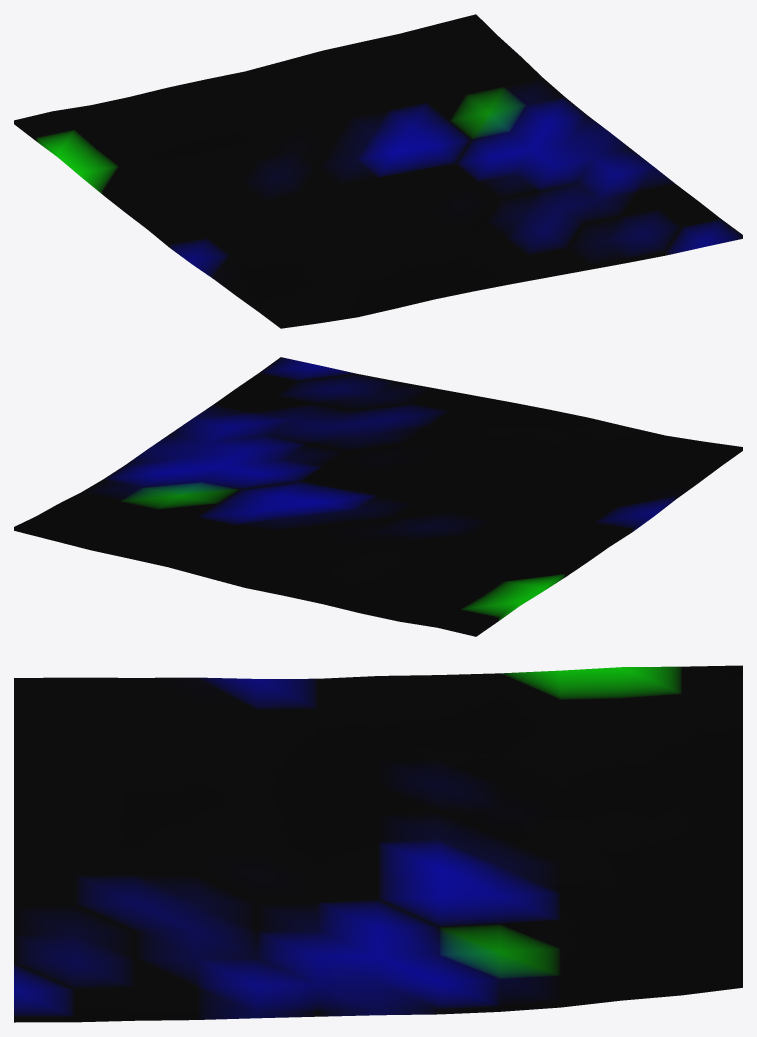
The model's file is coast_10_4.glb.
The picture shows the model from 3 angles, top to bottom: view 1: azimuth 30°, elevation 25°; view 2: azimuth 150°, elevation 25°; view 3: azimuth 270°, elevation 25°; orthographic projection. The views are drawn at different scales.
Parts seen in each view (by area): view 1: terrain; view 2: terrain; view 3: terrain.
Boxes of the visible parts, x1,y1,x2,y2 form: terrain: (14, 14, 742, 328); terrain: (14, 357, 742, 636); terrain: (14, 665, 742, 1022).
Bounding box in the file's own units: 192 × 14.22 × 192.
